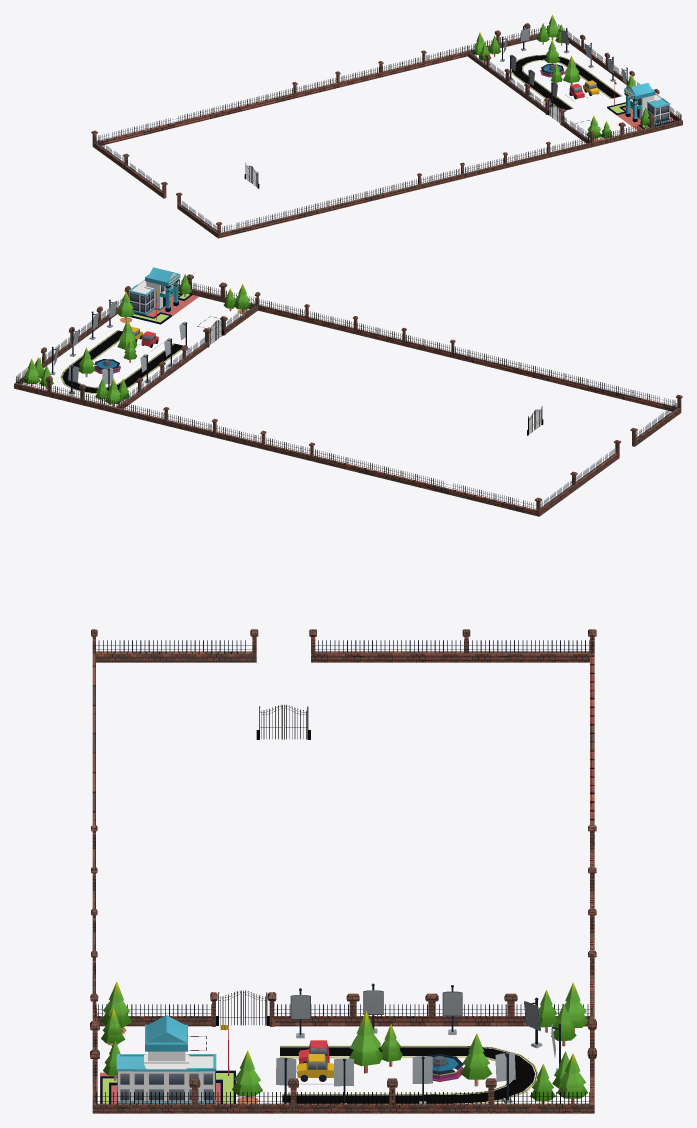
File: Car Driving Map.fbx
3 renders of one model, top to bottom at view 1: azimuth 30°, elevation 25°; view 2: azimuth 150°, elevation 25°; view 3: azimuth 270°, elevation 25°, orthographic. The views are drawn at different scales.
Parts seen in each view (by area): view 1: Cube.055, prova2.018, Cube.056, BANDIERA, Road; view 2: Cube.055, prova2.018, Cube.056, BANDIERA, Road; view 3: Cube.055, Cube.056, BANDIERA, prova2.018, Road, CANCELLO GROSSO.003, CANCELLO GROSSO.002.
Part boxes in pixels (x1,y1,x2,y2): Cube.055: [91, 23, 682, 238]; prova2.018: [95, 24, 681, 232]; Cube.056: [473, 14, 649, 141]; BANDIERA: [607, 81, 674, 130]; Road: [511, 54, 621, 110]; Cube.055: [14, 274, 682, 516]; prova2.018: [16, 279, 678, 509]; Cube.056: [23, 274, 251, 406]; BANDIERA: [128, 267, 198, 324]; Road: [60, 330, 182, 393]; Cube.055: [90, 629, 596, 1113]; Cube.056: [101, 982, 587, 1103]; BANDIERA: [100, 1015, 235, 1103]; prova2.018: [94, 640, 592, 1104]; Road: [280, 1045, 538, 1103]; CANCELLO GROSSO.003: [256, 704, 310, 739]; CANCELLO GROSSO.002: [216, 990, 269, 1025].
Size of the model in its own units: 20170 by 1276 by 8339.
